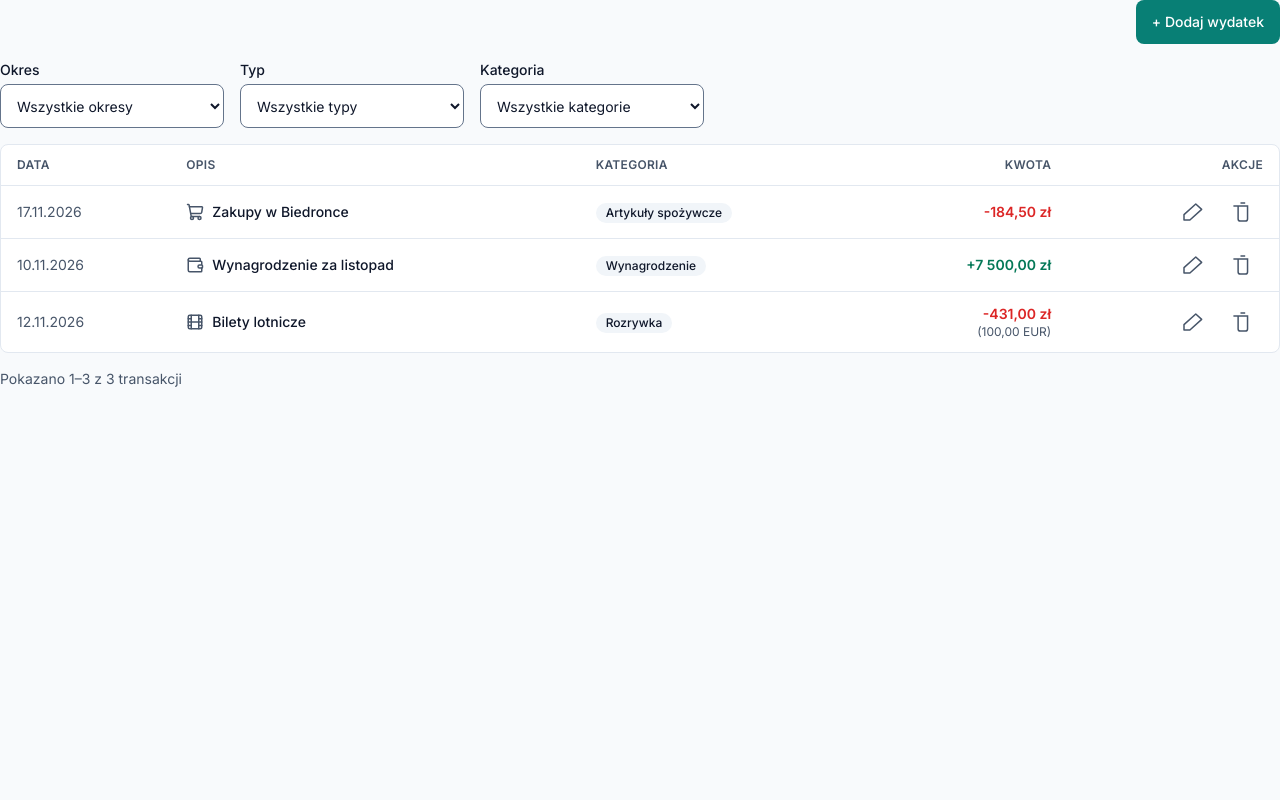
Test case: TransactionsView › deleting a transaction › keeps the dialog open and shows the detail when deleting fails
The width and height of the screenshot is (1280, 800).
Click the button named "Usuń transakcję: Zakupy w Biedronce, 17.11.2026".
click(1241, 212)  # box [1219,190,1263,234]
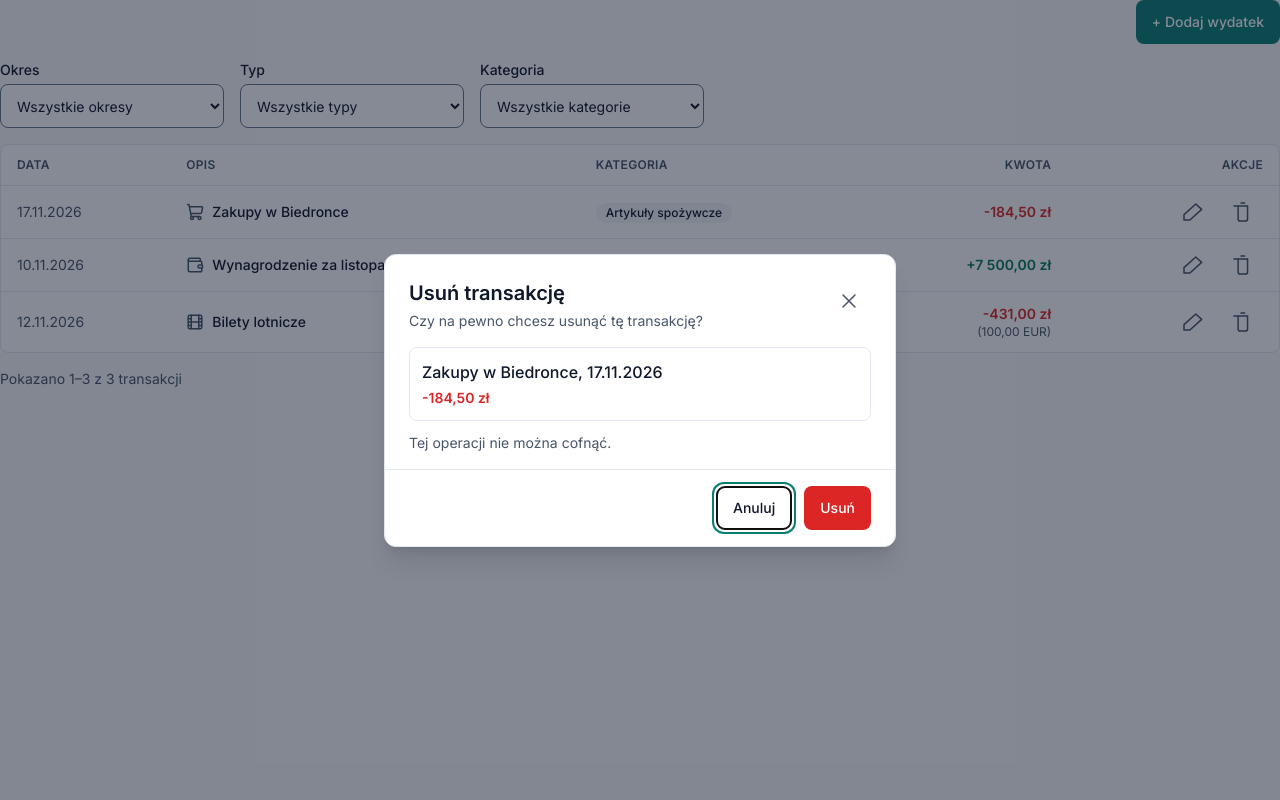
Click the button "Usuń".
click(838, 508)  # box [804,486,871,530]
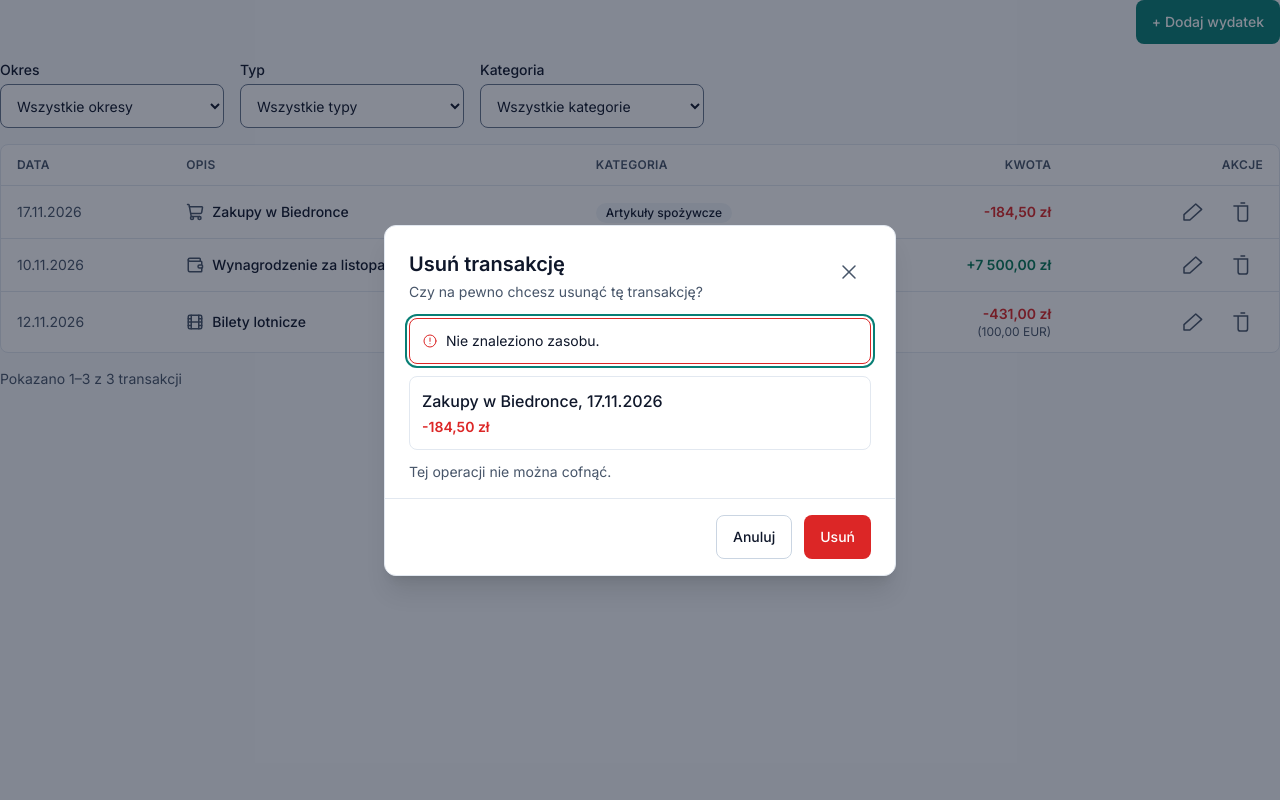
Check: the dialog is shown, box [384,224,896,576]
Check: the message reads "Nie znaleziono zasobu.", box [446,332,600,348]
